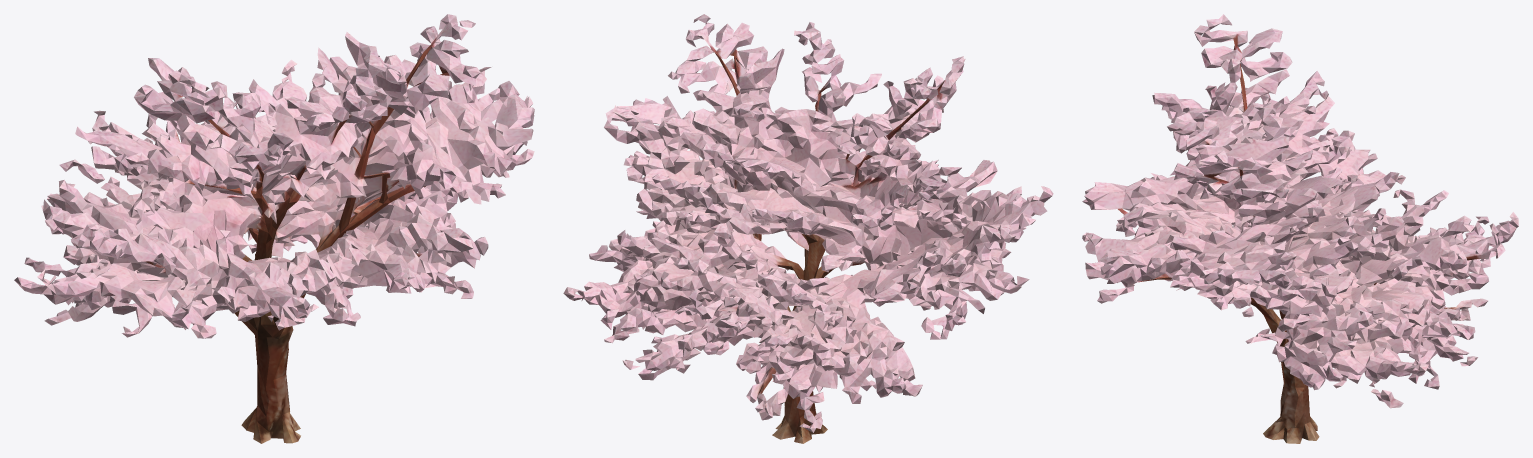
The model's file is source.glb.
3 renders of one model, left to right at view 1: azimuth 30°, elevation 25°; view 2: azimuth 150°, elevation 25°; view 3: azimuth 270°, elevation 25°, orthographic. The views are drawn at different scales.
Parts seen in each view (by area): view 1: model; view 2: model; view 3: model.
Part boxes in pixels (box(x1,y1,x2,y2)): model: box(14, 14, 534, 443); model: box(563, 14, 1053, 443); model: box(1082, 14, 1518, 443).
Bounding box in the file's own units: 1.92 × 1.61 × 1.77.
1 material, 1 textured.
